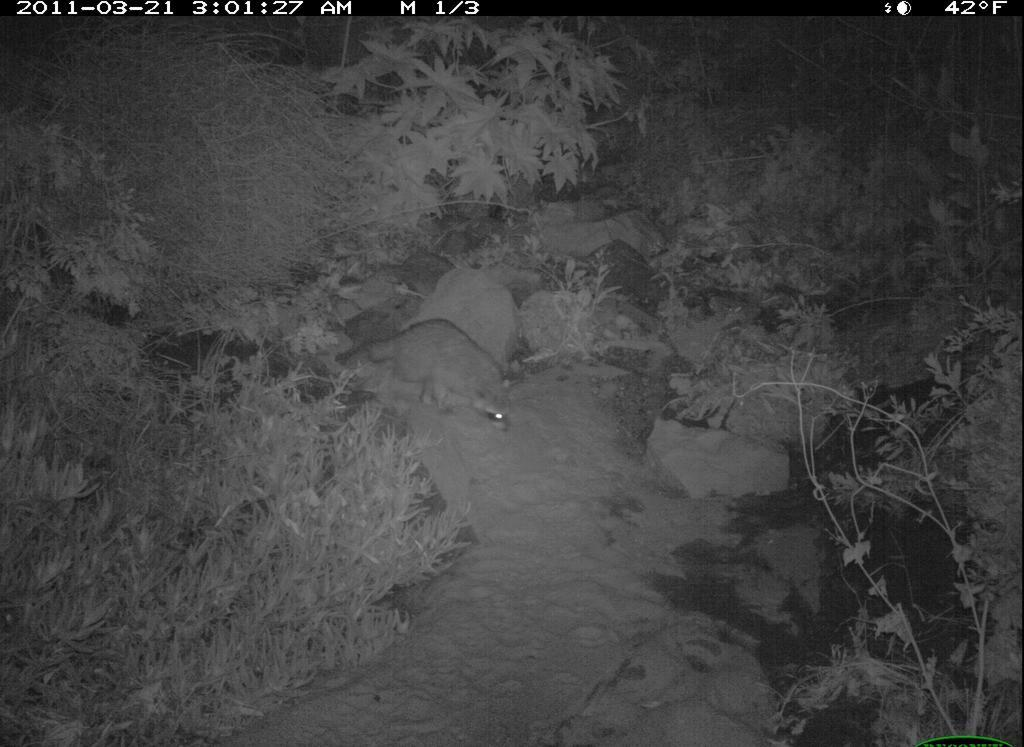raccoon: (338, 306, 528, 441)
